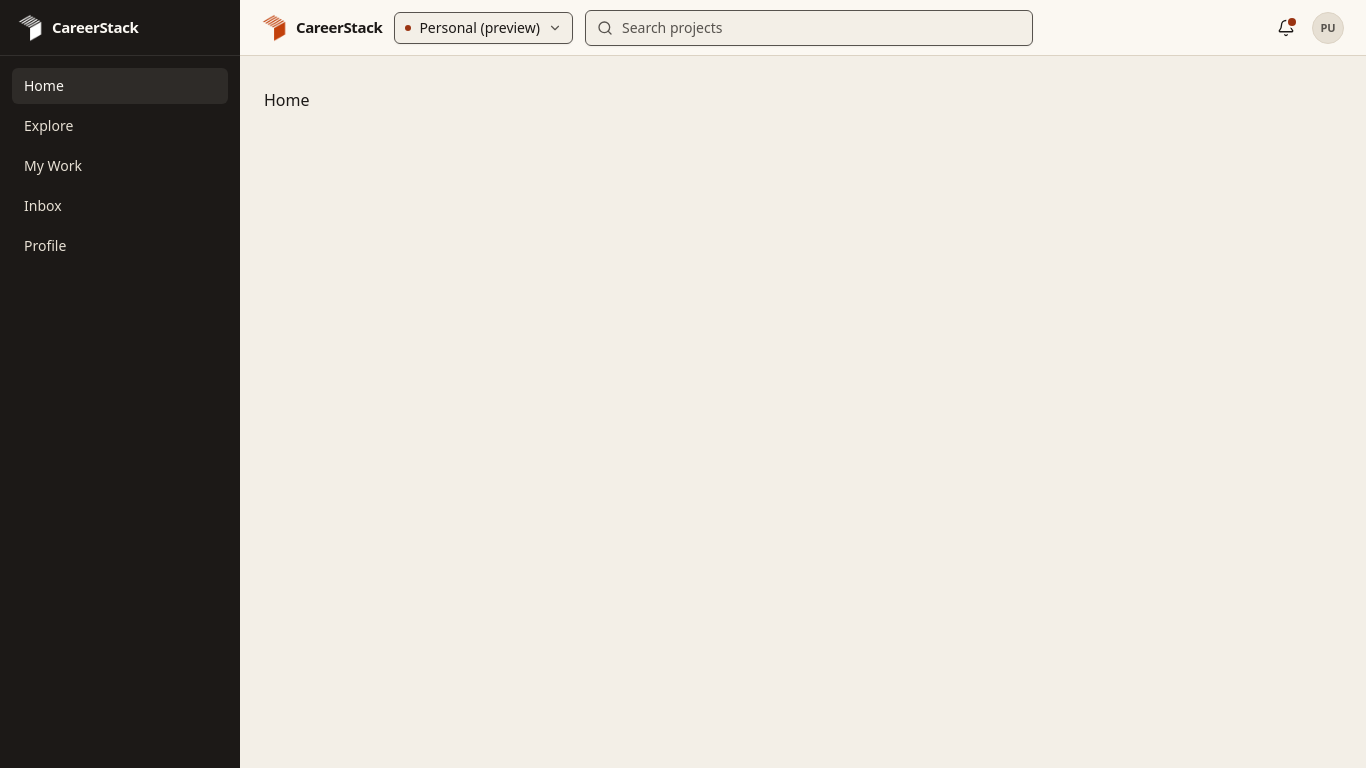
Test case: AppShell › opens the notification center from the bell instead of Inbox
What coordinates should you click on to do the following:
click the button named "Notifications, 1 unread"
I would click on:
 (1286, 28)
Its box is x1=1268 y1=10 x2=1304 y2=46.
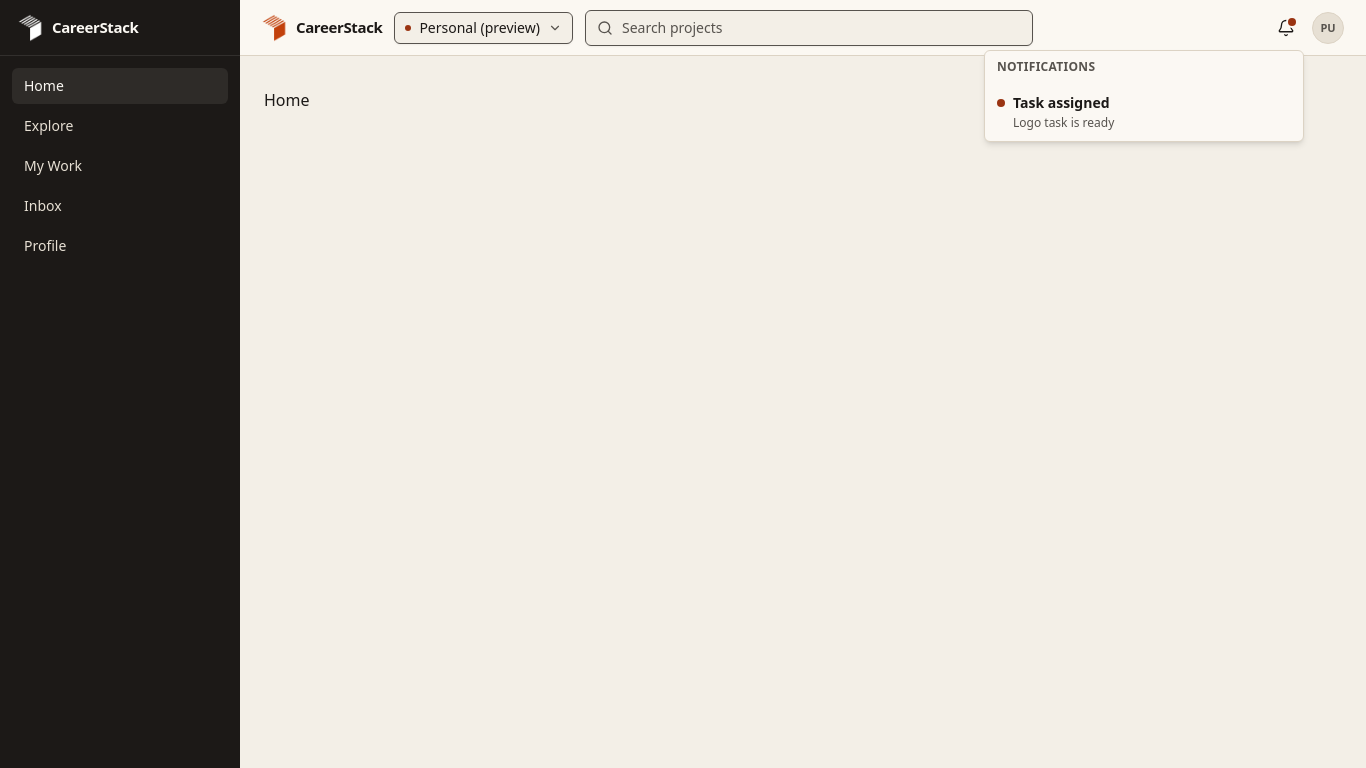
Expected: the element with test id "notification-center" is shown, x1=985 y1=51 x2=1303 y2=141
Expected: the text "Task assigned" is shown, x1=1013 y1=93 x2=1114 y2=113
What coordinates should you click on to do the following:
click the button "Task assigned Logo task is ready"
I would click on:
 (1061, 102)
Its box is x1=985 y1=83 x2=1303 y2=141.
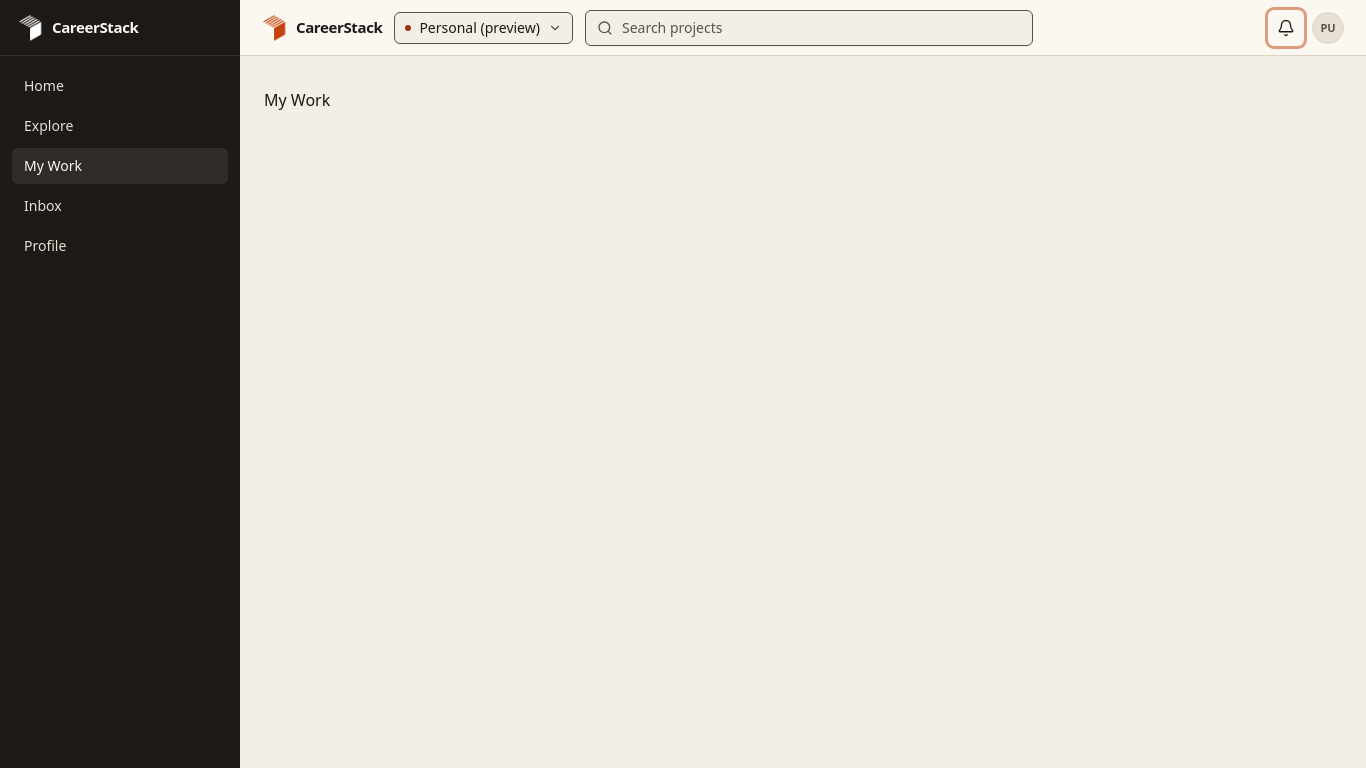
Expected: the heading "My Work" is shown, x1=264 y1=89 x2=330 y2=111
